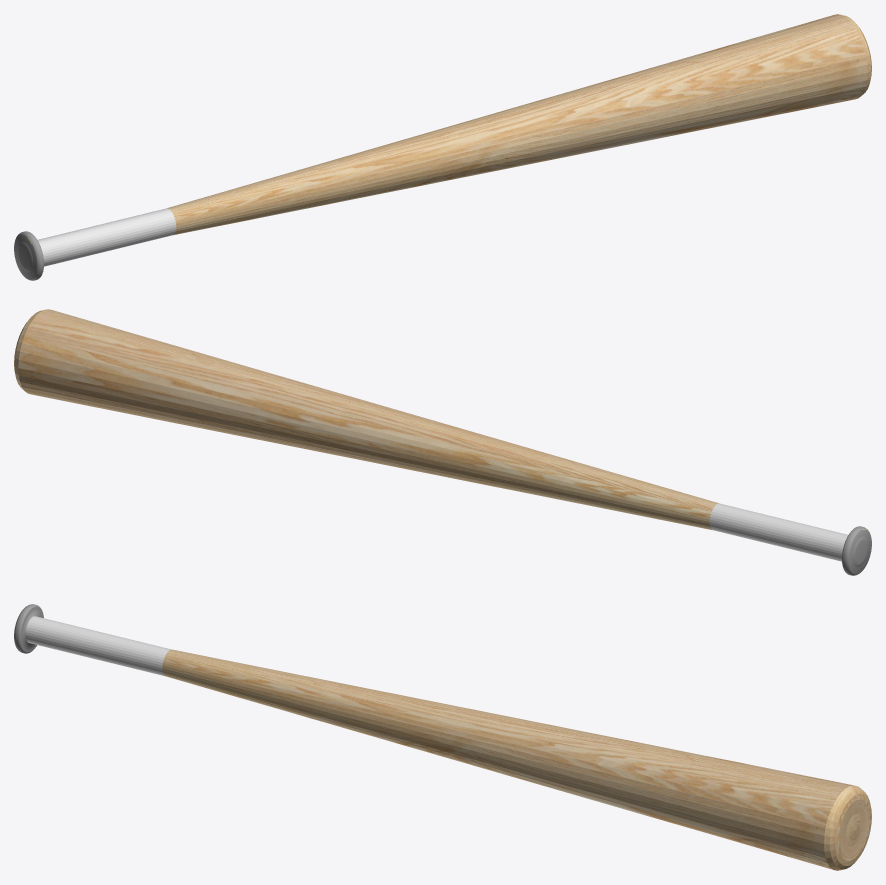
File: baseball_Bat.fbx
3 renders of one model, top to bottom at view 1: azimuth 30°, elevation 25°; view 2: azimuth 150°, elevation 25°; view 3: azimuth 330°, elevation 25°, orthographic.
Parts seen in each view (by area): view 1: Sphere; view 2: Sphere; view 3: Sphere.
Boxes of the visible parts, <box> form: Sphere: <box>14,14,871,280</box>; Sphere: <box>14,309,871,575</box>; Sphere: <box>14,604,871,870</box>.
Bounding box in the file's own units: 2151 × 196 × 196.
Materials: 3 (1 with a texture image).
